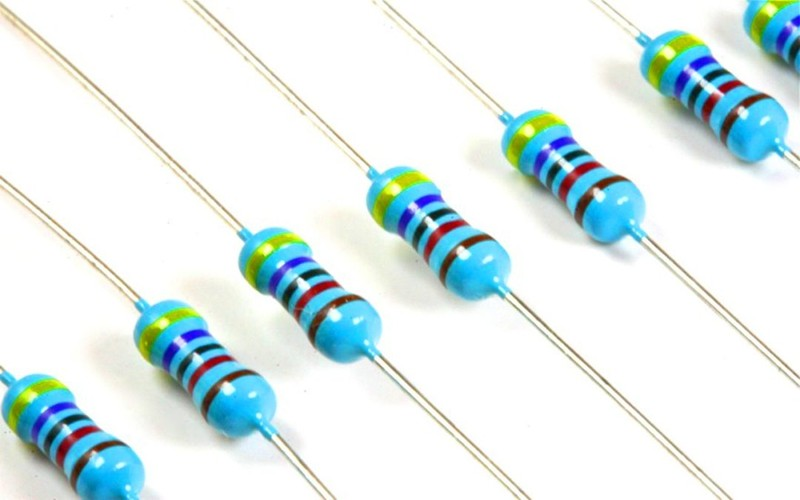Resistor: (485, 0, 800, 250), (221, 130, 531, 368), (0, 266, 296, 500)
